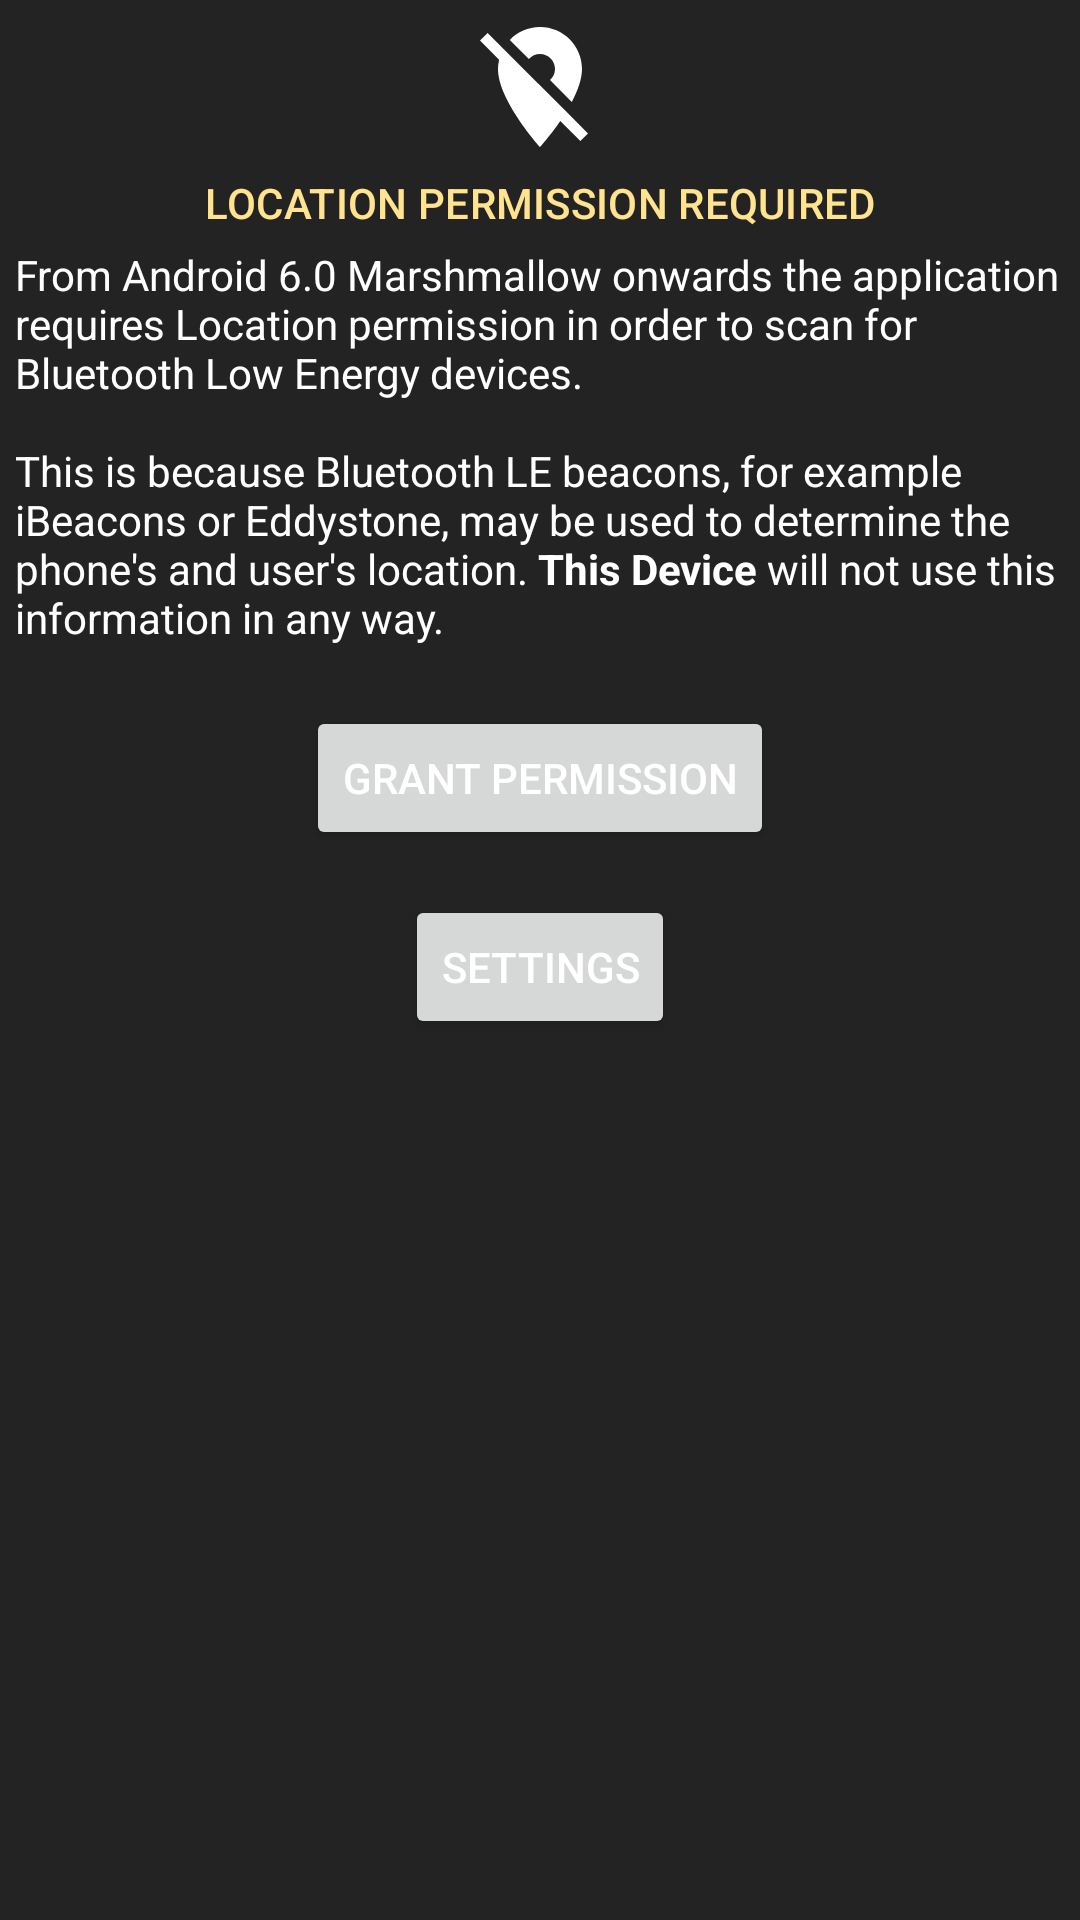

Locate icon controls on the screen. Image size 1080px x 1920px, boxes as BBox(x1, y1, x2, y2).
location off: BBox(480, 27, 588, 147)
